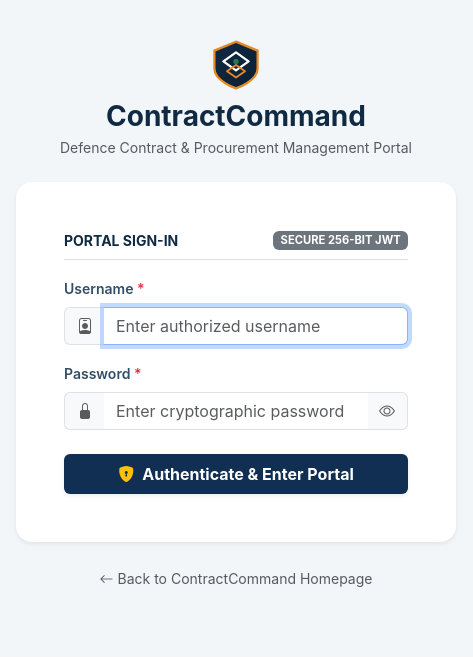
it: Phase 3 — Authentication & Application Layout Suite › LoginPage Component › validates empty inputs on submission and presents error alert
Click the button "Authenticate & Enter Portal" at coordinates (236, 474), box [64, 454, 408, 494]
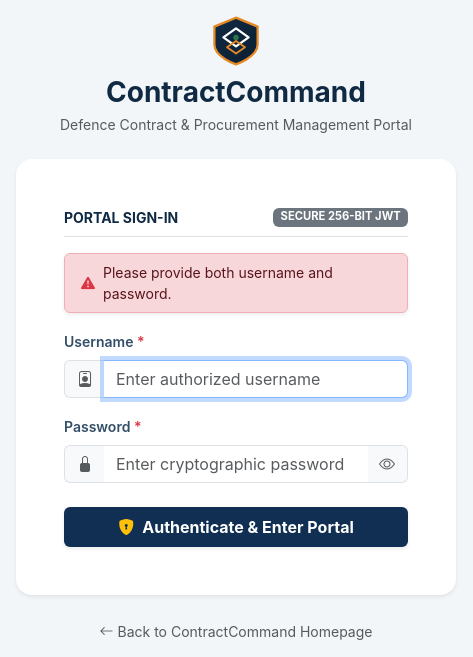
expect the text "Please provide both username and password." is shown: met, box [103, 264, 333, 302]
